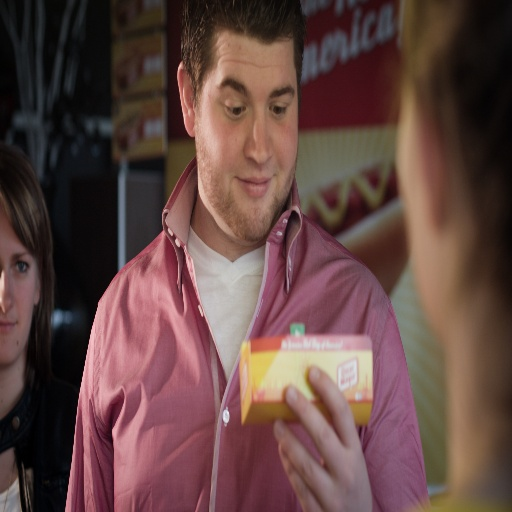hand: (260, 395, 386, 503)
